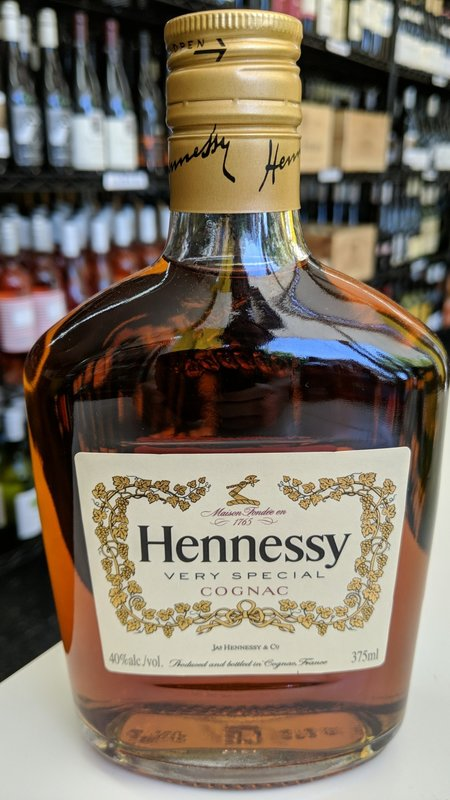Hennessy: (3, 3, 449, 800)
